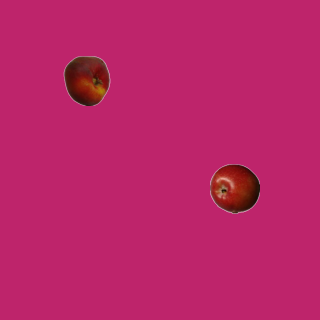Apple Braeburn: (209, 163, 259, 213)
Nectarine Flat: (61, 55, 111, 105)
